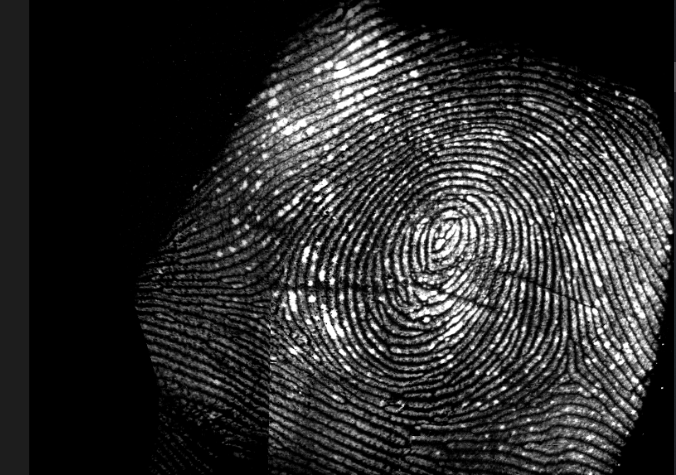nucelo: (427, 203, 455, 267)
verticilo: (255, 289, 297, 328), (546, 355, 590, 389)
